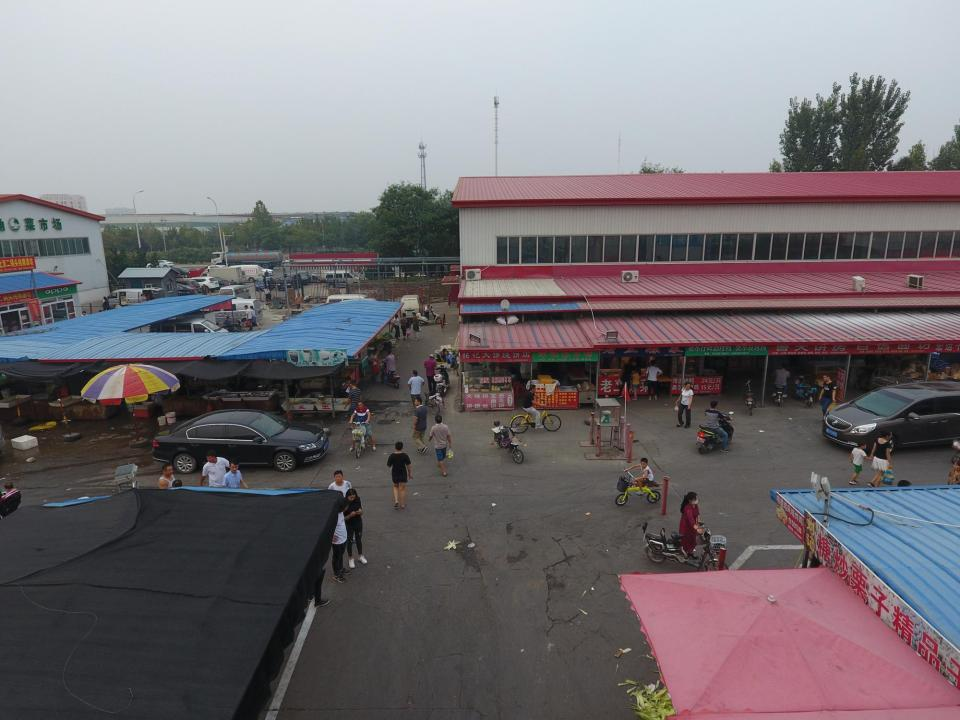car: (152, 409, 329, 474), (822, 380, 960, 457), (186, 276, 219, 292), (277, 273, 303, 291), (240, 264, 274, 276), (173, 279, 201, 293), (207, 275, 234, 289), (172, 283, 197, 296), (164, 266, 193, 277), (256, 276, 276, 290), (146, 260, 174, 268), (295, 271, 311, 285), (312, 268, 326, 281)
truck: (211, 252, 283, 270), (199, 267, 242, 285)
van: (204, 298, 263, 326), (104, 288, 166, 308), (148, 318, 230, 332), (326, 294, 368, 312), (221, 264, 260, 282), (400, 294, 424, 320), (324, 271, 360, 288), (219, 285, 250, 301)
